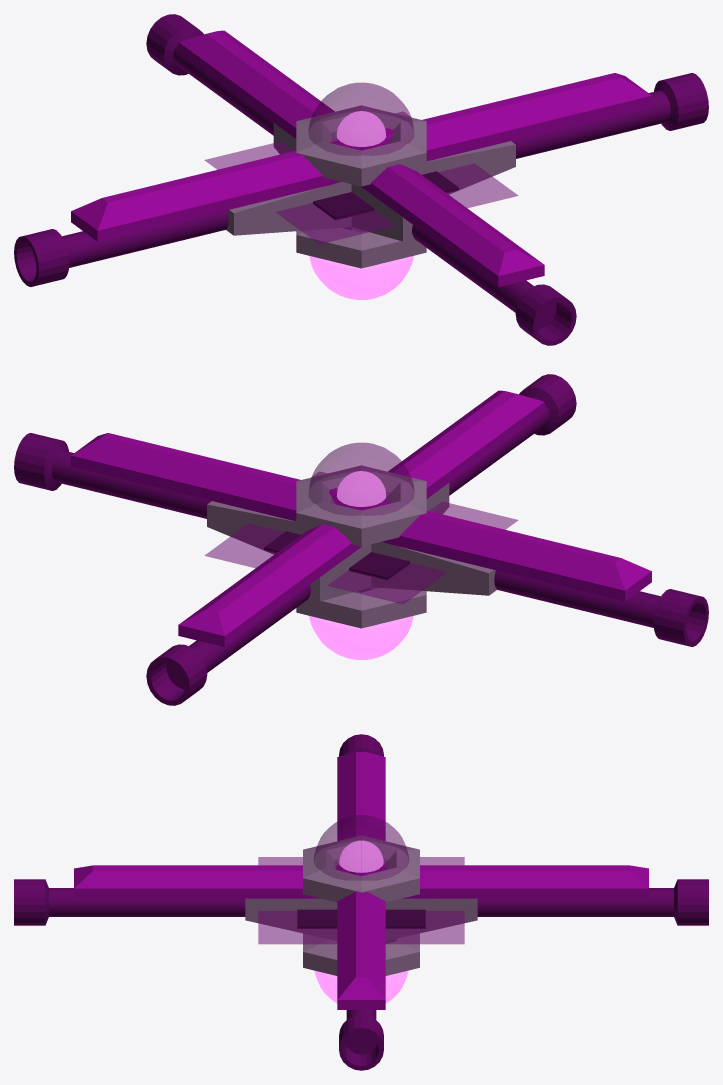
Rendered from Plus_Char.fbx.
3 views of the same model, one above another, from view 1: azimuth 30°, elevation 25°; view 2: azimuth 150°, elevation 25°; view 3: azimuth 270°, elevation 25° (orthographic). The views are drawn at different scales.
Visible parts, largest first — view 1: pCube7; view 2: pCube7; view 3: pCube7.
Part boxes in pixels (left/top/right/bottom): pCube7: left=14, top=14, right=708, bottom=345; pCube7: left=14, top=374, right=708, bottom=705; pCube7: left=14, top=734, right=708, bottom=1070.
Size of the model in its own units: 14.46 by 4.29 by 14.46.
